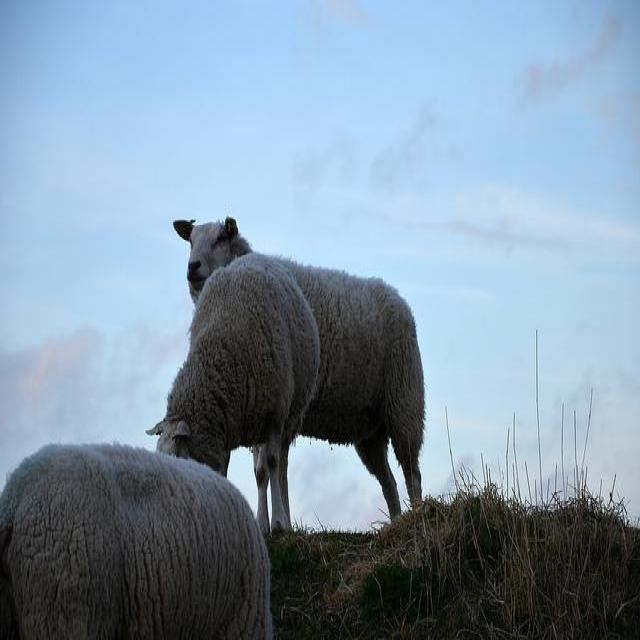Sheep: (173, 217, 427, 524), (1, 447, 274, 638), (143, 249, 320, 542)
